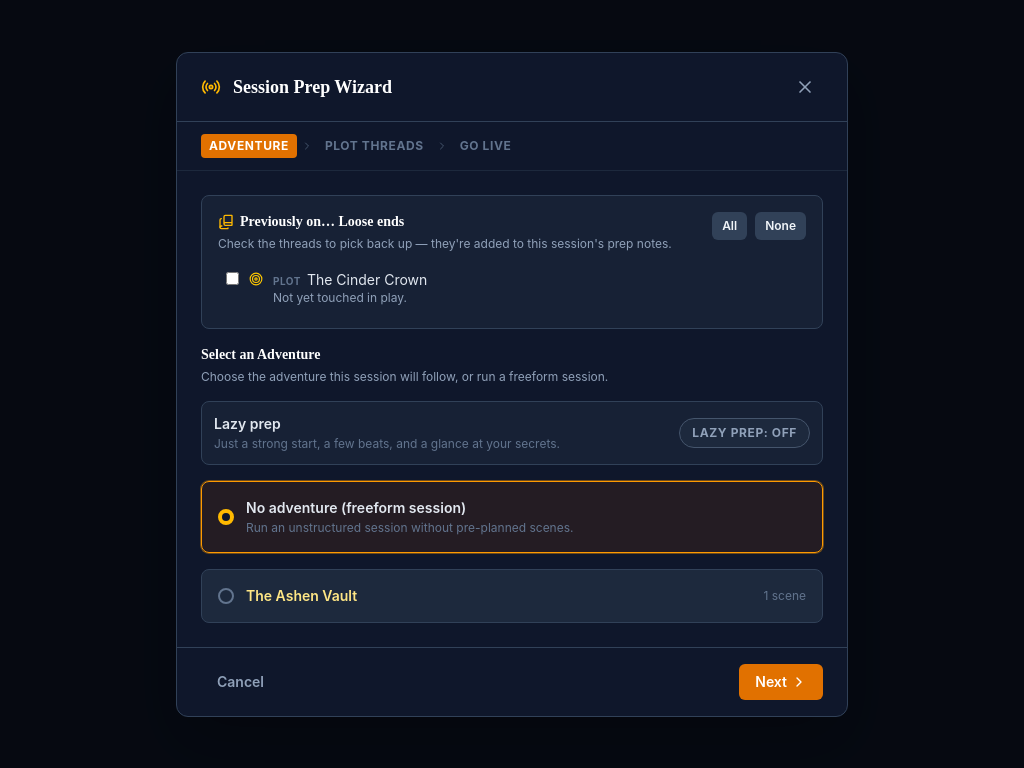
Test: the checklist is collapsed by default › reveals all eight rows, in Shea's order, once opened
Step 1. Click the button "Go Live" → coordinates (486, 146), box [452,134,519,158]
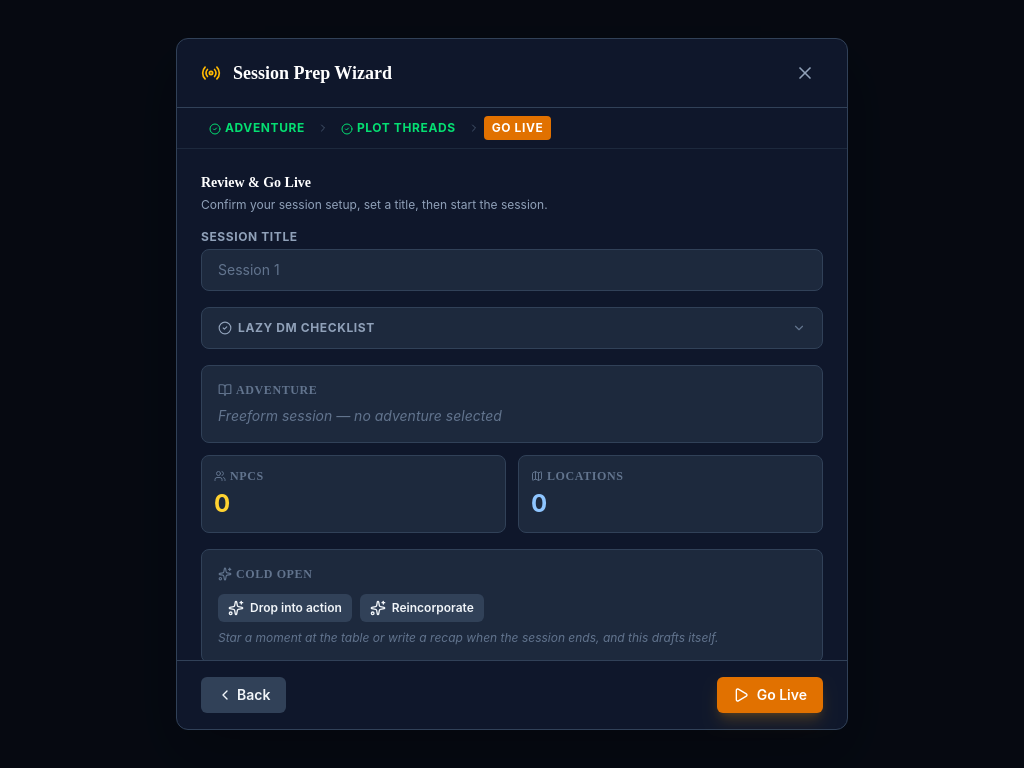
Step 2. Click the button "Lazy DM checklist" → coordinates (306, 327), box [202,308,822,348]
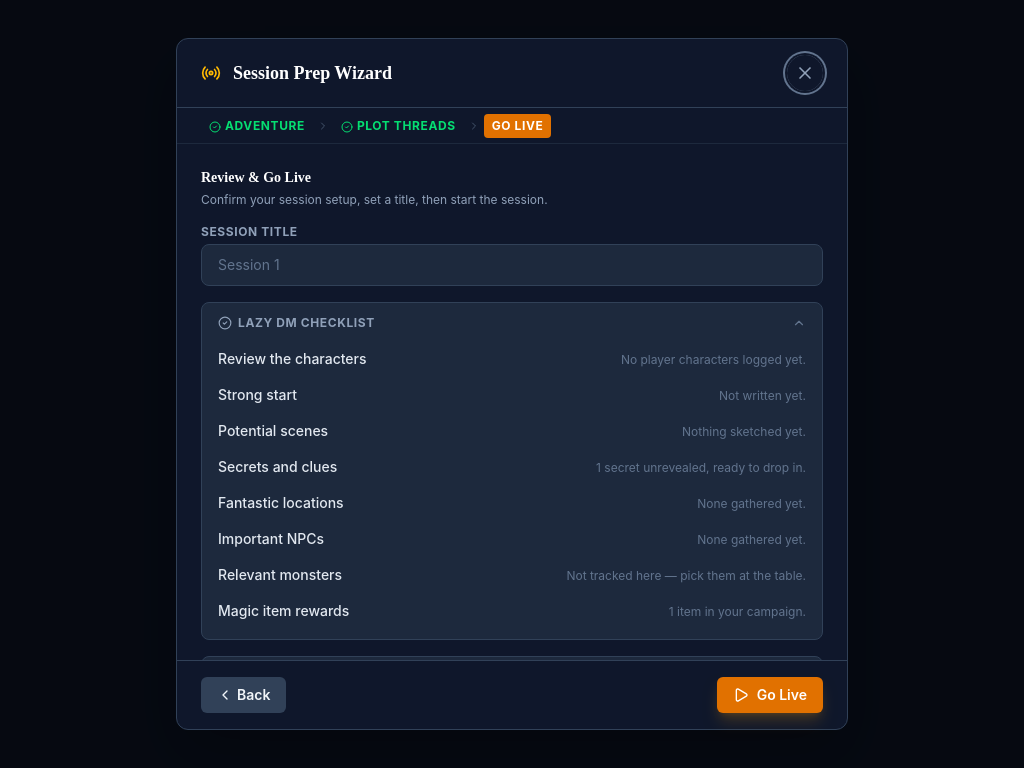
Expected: the button "Lazy DM checklist" is expanded, [202,303,822,343]
Expected: the text "Review the characters" is shown, [218,349,366,369]
Expected: the text "Strong start" is shown, [218,385,297,405]
